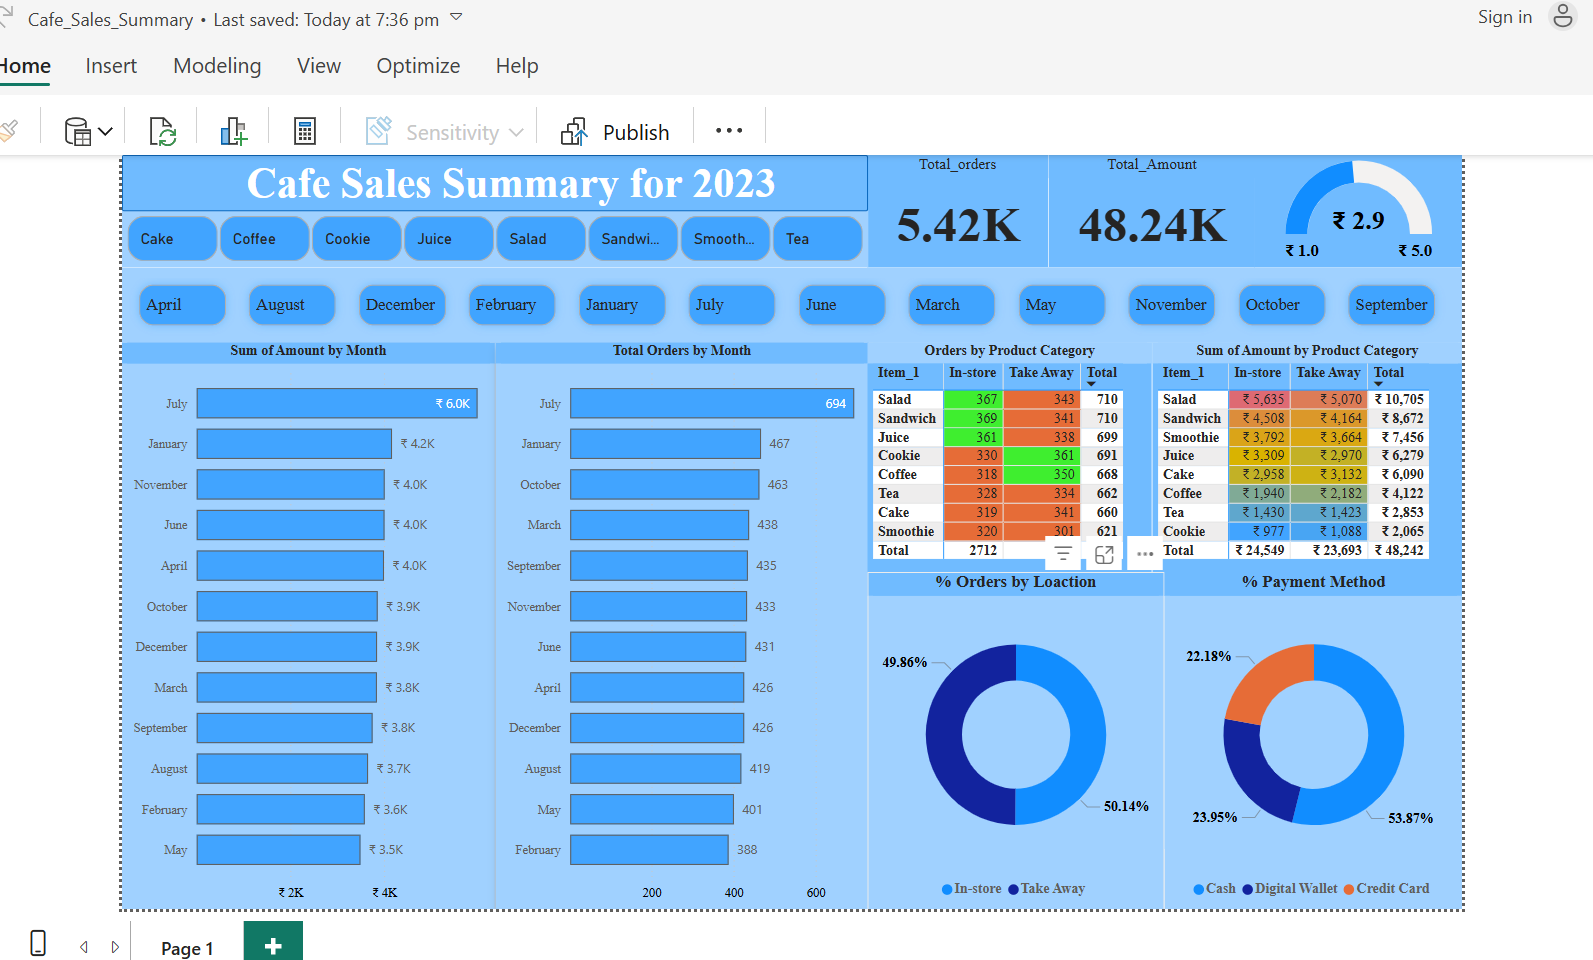

What the dashboard file says about the page in this screenshot:
{"tool":"powerbi","page":{"name":"Page 1","canvas":[1280,720],"ordinal":0},"visuals":[{"type":"card","title":"Total_orders","fields":{"Values":["CountNonNull(dirty_cafe_sales.Transaction_ID)"]},"box":[712.4,0,172.4,107.4],"z":0},{"type":"card","title":"Total_Amount","fields":{"Values":["Sum(dirty_cafe_sales.Total_Amount)"]},"box":[884.8,0,196.8,107.4],"z":1000},{"type":"clusteredBarChart","title":"Sum of Amount by Month","fields":{"Category":["dirty_cafe_sales.Month Name"],"Y":["Sum(dirty_cafe_sales.Total_Amount)"]},"box":[0,178.9,356.2,541.6],"z":3000},{"type":"clusteredBarChart","title":"Total Orders by Month","fields":{"Category":["dirty_cafe_sales.Month Name"],"Y":["CountNonNull(dirty_cafe_sales.Transaction_ID)"]},"box":[356.2,178.9,356.2,541.6],"z":3001},{"type":"pivotTable","title":"Orders by Product Category","fields":{"Rows":["dirty_cafe_sales.Item_1"],"Columns":["dirty_cafe_sales.Location"],"Values":["CountNonNull(dirty_cafe_sales.Transaction_ID)"]},"box":[712.4,178.9,271.6,219.6],"z":3002},{"type":"pivotTable","title":"Sum of Amount by Product Category","fields":{"Rows":["dirty_cafe_sales.Item_1"],"Columns":["dirty_cafe_sales.Location"],"Values":["Sum(dirty_cafe_sales.Total_Amount)"]},"box":[984.1,178.9,296,219.6],"z":3003},{"type":"gauge","fields":{"Y":["Avg(dirty_cafe_sales.Price(PU))"],"MinValue":["Min(dirty_cafe_sales.Price(PU))1"],"MaxValue":["Max(dirty_cafe_sales.Price(PU))2"]},"box":[1081.7,0,198.4,107.4],"z":3004},{"type":"advancedSlicerVisual","fields":{"Values":["dirty_cafe_sales.Month Name"]},"box":[0,107.4,1280.1,71.6],"z":3005},{"type":"donutChart","title":"% Orders by Loaction","fields":{"Y":["Sum(dirty_cafe_sales.Quantity)"],"Category":["dirty_cafe_sales.Location"]},"box":[712.4,398.5,283,322.1],"z":3006},{"type":"donutChart","title":"% Payment Method","fields":{"Y":["Sum(dirty_cafe_sales.Quantity)"],"Category":["dirty_cafe_sales.Payment_Method_2"]},"box":[995.4,398.5,284.6,322.1],"z":3007},{"type":"advancedSlicerVisual","fields":{"Values":["dirty_cafe_sales.Item_1"]},"box":[0,53.7,712.4,53.7],"z":3008},{"type":"shape","box":[0,0,712.4,53.7],"z":3009}]}

Visuals, with their boxes on the page's 1280x720 design canvas (x1, y1, x2, y2). These are canvas units, not pixel positions in the 1593x960 screenshot, which may show the page scaled, cropped or inside an application window:
"Total_orders" card: <region>712, 0, 885, 107</region>
"Total_Amount" card: <region>885, 0, 1082, 107</region>
"Sum of Amount by Month" clusteredBarChart: <region>0, 179, 356, 720</region>
"Total Orders by Month" clusteredBarChart: <region>356, 179, 712, 720</region>
"Orders by Product Category" pivotTable: <region>712, 179, 984, 398</region>
"Sum of Amount by Product Category" pivotTable: <region>984, 179, 1280, 398</region>
gauge - Avg(dirty_cafe_sales.Price(PU)) x Min(dirty_cafe_sales.Price(PU))1: <region>1082, 0, 1280, 107</region>
advancedSlicerVisual - dirty_cafe_sales.Month Name: <region>0, 107, 1280, 179</region>
"% Orders by Loaction" donutChart: <region>712, 398, 995, 721</region>
"% Payment Method" donutChart: <region>995, 398, 1280, 721</region>
advancedSlicerVisual - dirty_cafe_sales.Item_1: <region>0, 54, 712, 107</region>
shape: <region>0, 0, 712, 54</region>
